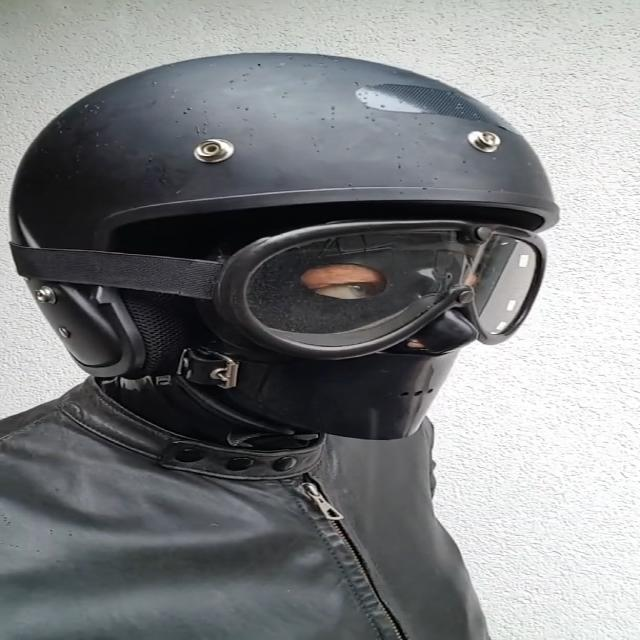Helmet_Wearer: (3, 41, 586, 465)
Jacket_Wearer: (0, 341, 558, 639)
Person: (1, 45, 552, 630)
